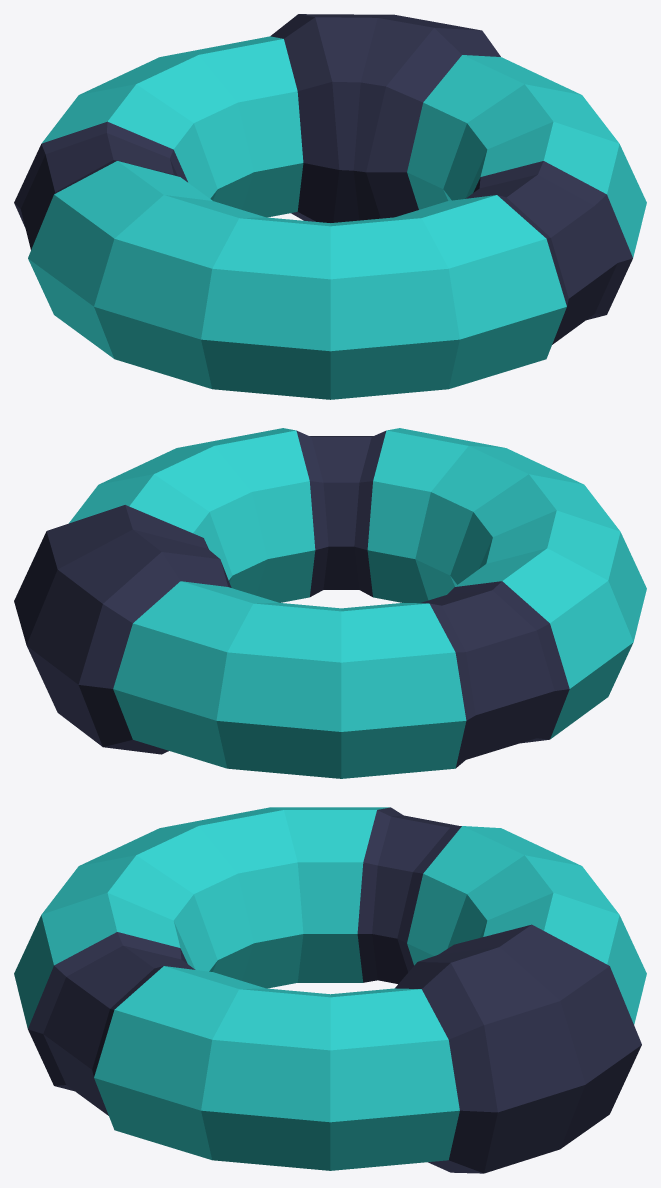
Rendered from hook.fbx.
3 views of the same model, one above another, from view 1: azimuth 30°, elevation 25°; view 2: azimuth 150°, elevation 25°; view 3: azimuth 270°, elevation 25° (orthographic). The views are drawn at different scales.
Parts seen in each view (by area): view 1: Torus; view 2: Torus; view 3: Torus.
Part boxes in pixels (x1,y1,x2,y2): Torus: [14, 14, 646, 399]; Torus: [14, 428, 646, 778]; Torus: [14, 807, 646, 1173].
Size of the model in its own units: 87.04 by 32.02 by 87.52.
